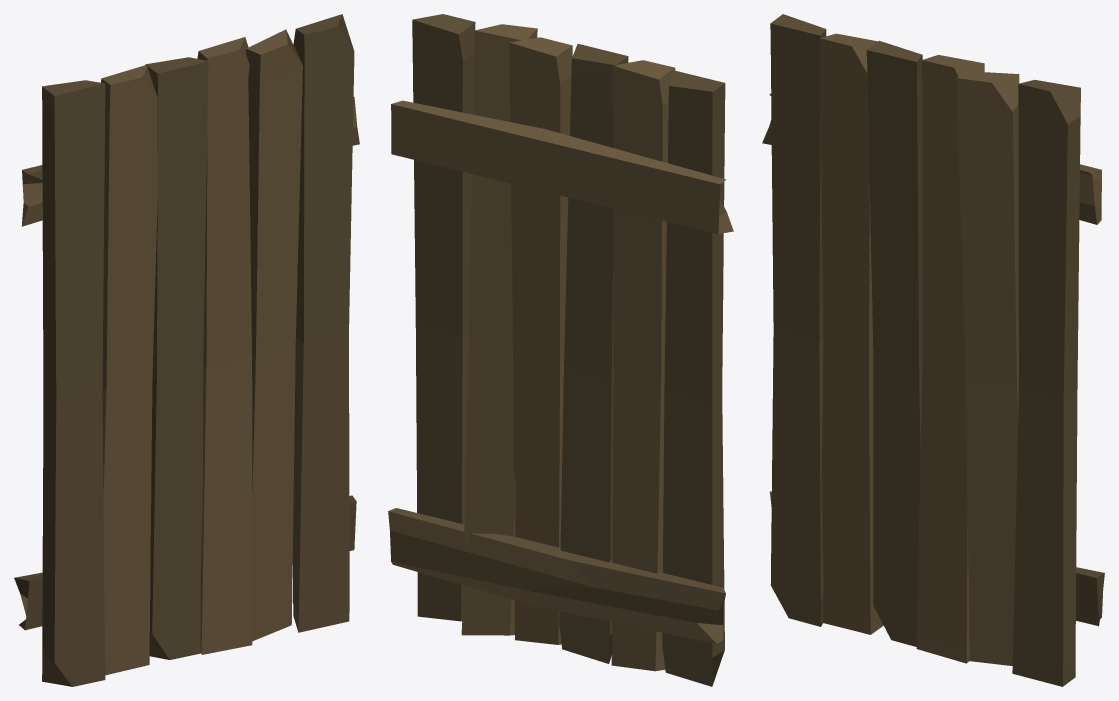
File: roman_door_1.fbx
The picture shows the model from 3 angles, left to right: view 1: azimuth 30°, elevation 25°; view 2: azimuth 150°, elevation 25°; view 3: azimuth 330°, elevation 25°; orthographic projection.
Parts seen in each view (by area): view 1: Cube.052; view 2: Cube.052; view 3: Cube.052.
Part boxes in pixels (left/top/right/bottom): Cube.052: left=14, top=14, right=359, bottom=686; Cube.052: left=388, top=14, right=733, bottom=686; Cube.052: left=762, top=14, right=1104, bottom=686.
Bounding box in the file's own units: 1.48 × 2.51 × 0.2366.
